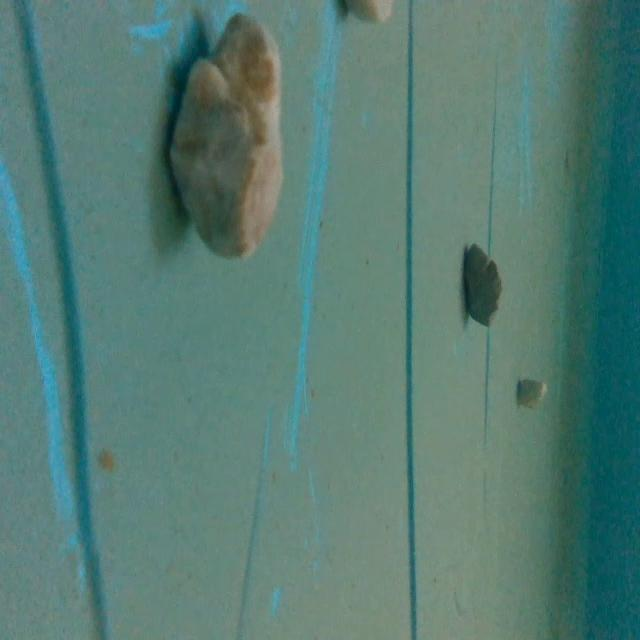rock: (154, 11, 295, 265), (458, 234, 507, 336)
